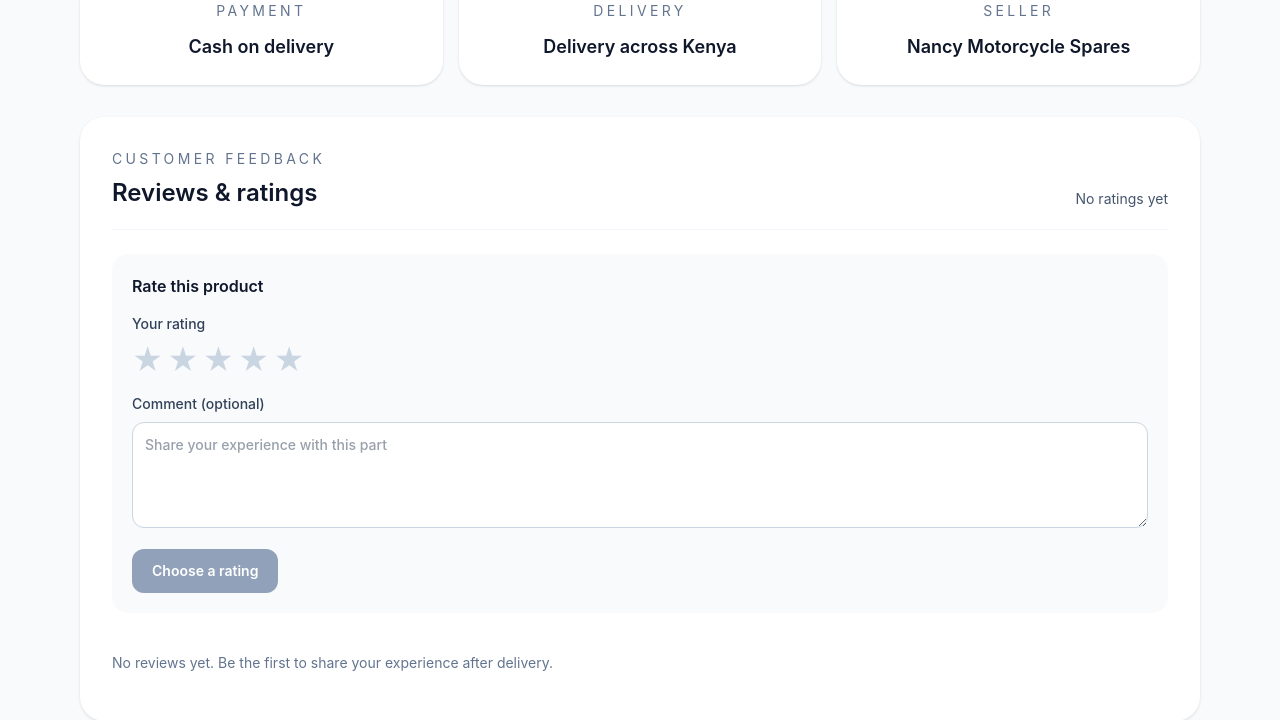
product reviews › lets a customer with a delivered order submit a rating and comment
This screenshot has width=1280, height=720.
(page scrolled)
Click the button named "5 stars": {"x": 289, "y": 360} [273,342,305,378]
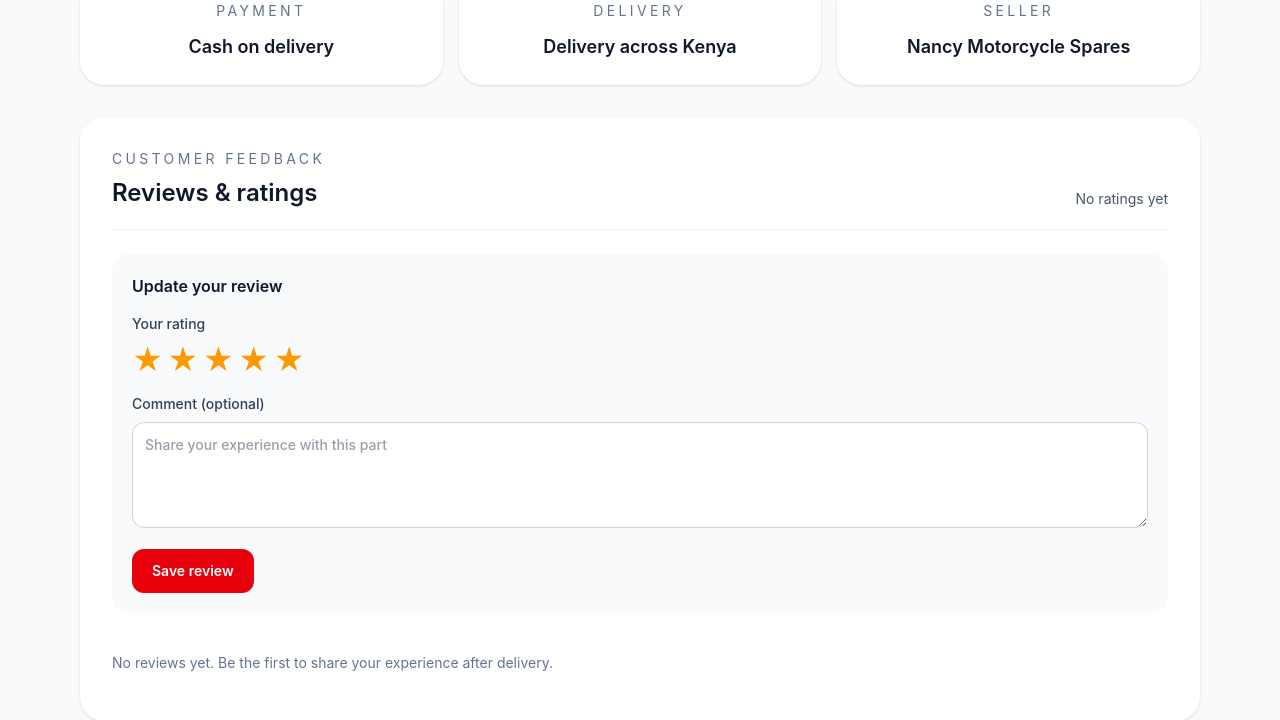
In the text box labelled "Comment (optional)": {"x": 640, "y": 475} [132,422,1148,528], type "Fits well and arrived in good condition."
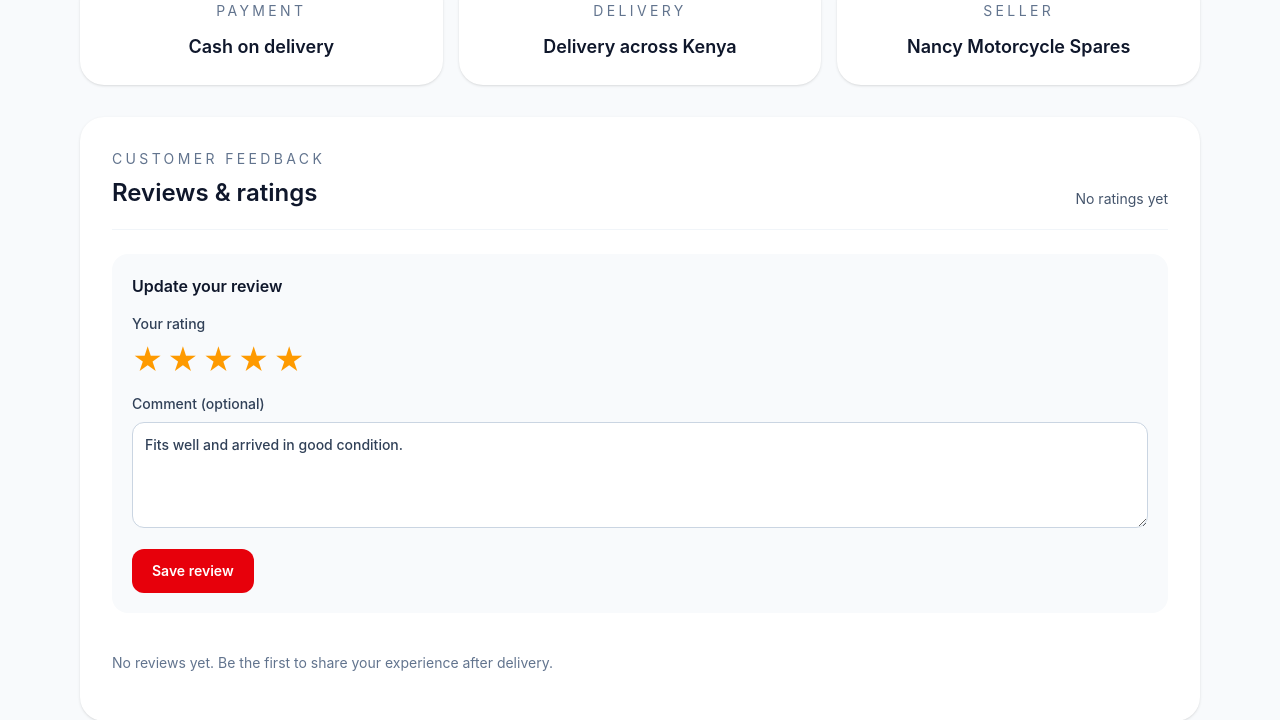
Click the button "Save review": {"x": 193, "y": 571} [132,549,254,593]
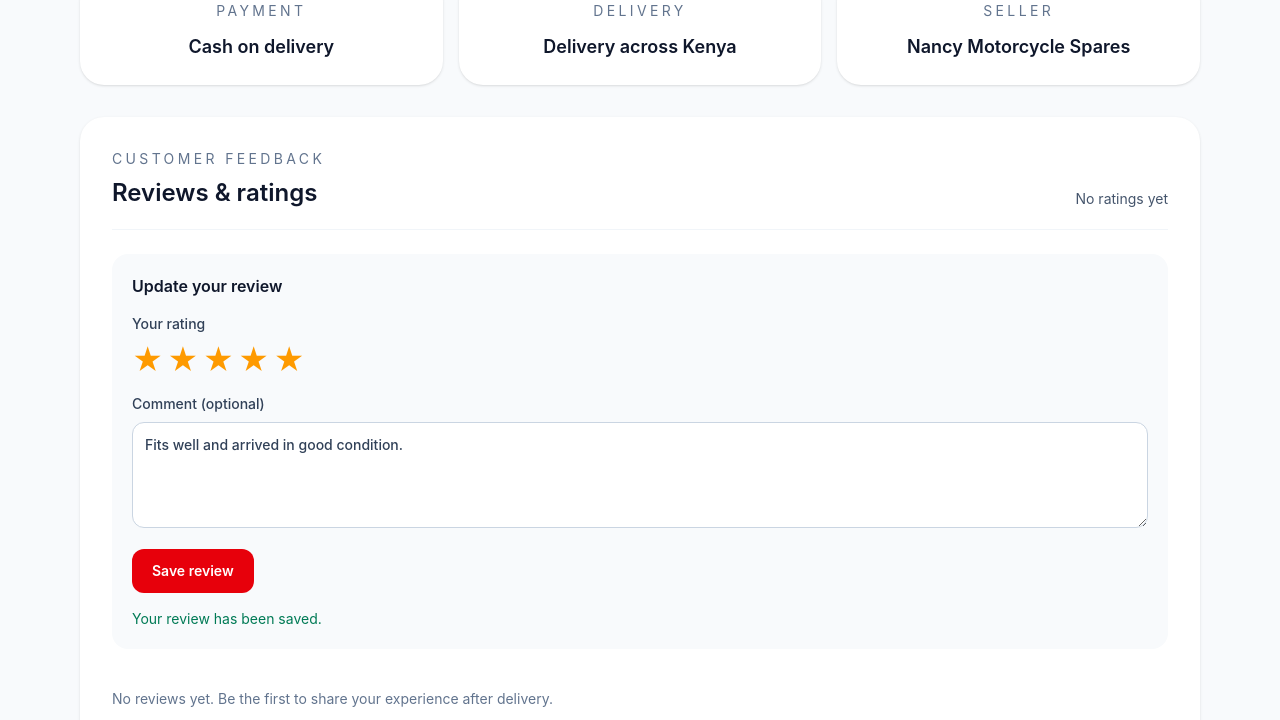
Expected: the message reads "Your review has been saved.", [132,610,322,627]
